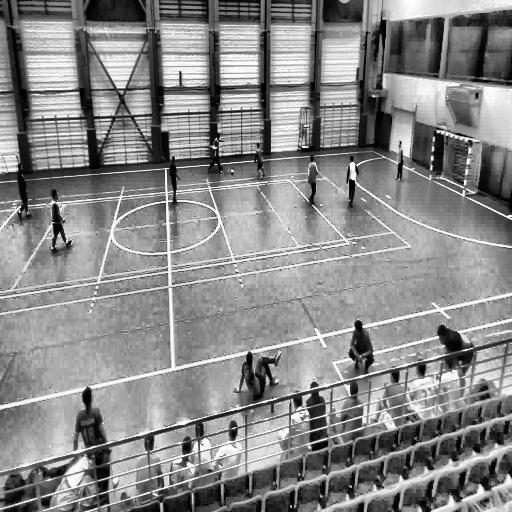ball: (230, 168, 235, 176)
player: (50, 186, 73, 253), (349, 320, 375, 378), (16, 162, 32, 222), (346, 155, 359, 208), (168, 153, 180, 206), (206, 139, 224, 174), (307, 154, 319, 206), (254, 141, 265, 180), (214, 130, 225, 166), (395, 139, 404, 182)
